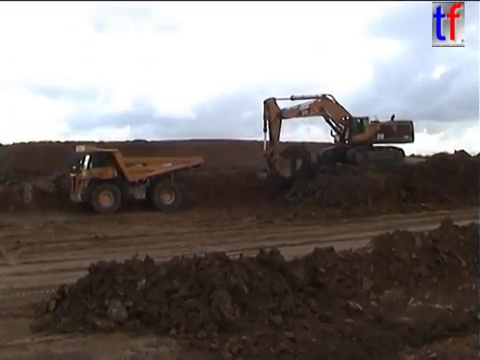excavator: (260, 91, 416, 181)
truck: (64, 143, 205, 215)
